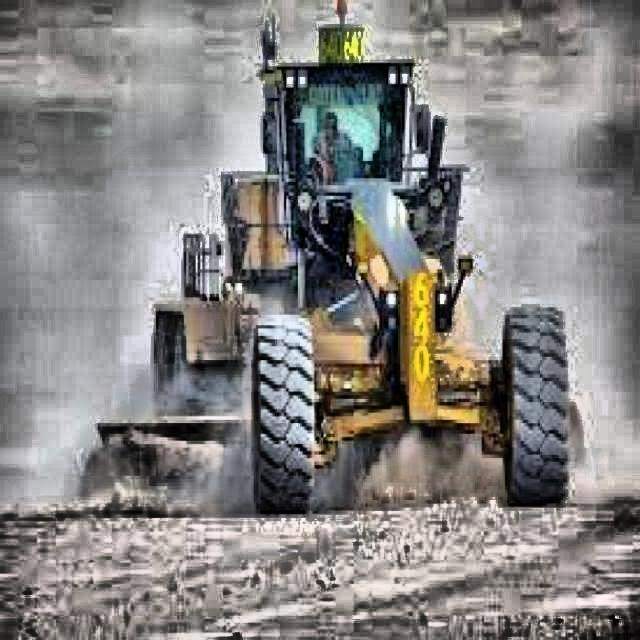bull_dozer/loader/grader: (96, 0, 571, 517)
person: (311, 110, 355, 183)
